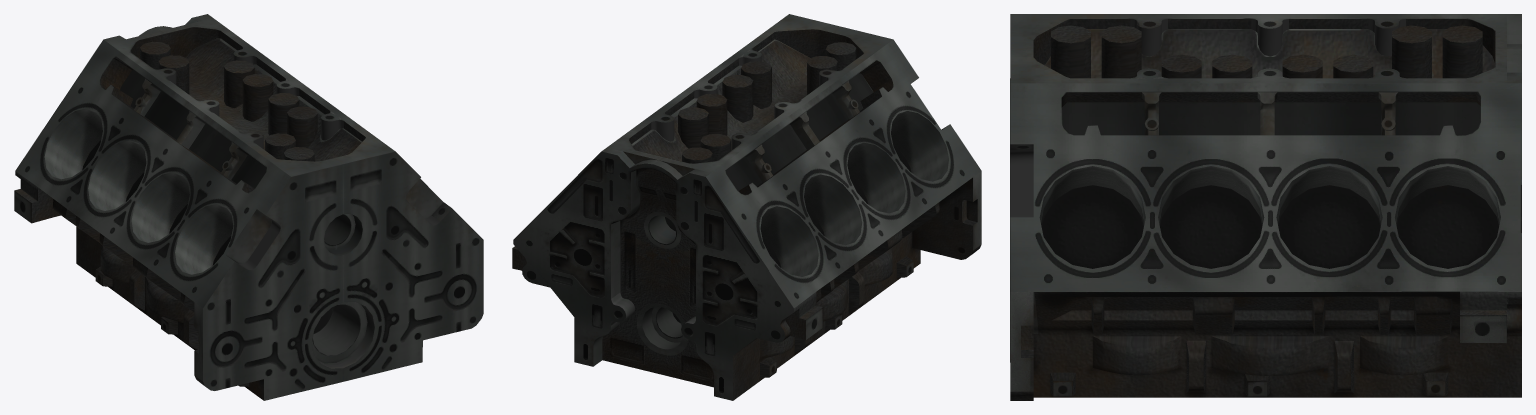
The model's file is engine_thing.glb.
3 views of the same model, side by side, from view 1: azimuth 30°, elevation 25°; view 2: azimuth 150°, elevation 25°; view 3: azimuth 270°, elevation 25° (orthographic). The views are drawn at different scales.
Visible parts, largest first — view 1: engine_solo_reference.smd; view 2: engine_solo_reference.smd; view 3: engine_solo_reference.smd.
Boxes of the visible parts, box(x1,y1,x2,y2) form: engine_solo_reference.smd: box(14, 14, 483, 400); engine_solo_reference.smd: box(512, 14, 981, 400); engine_solo_reference.smd: box(1010, 14, 1521, 400).
Bounding box in the file's own units: 5.75 × 4.08 × 6.37.
1 material, 1 textured.
